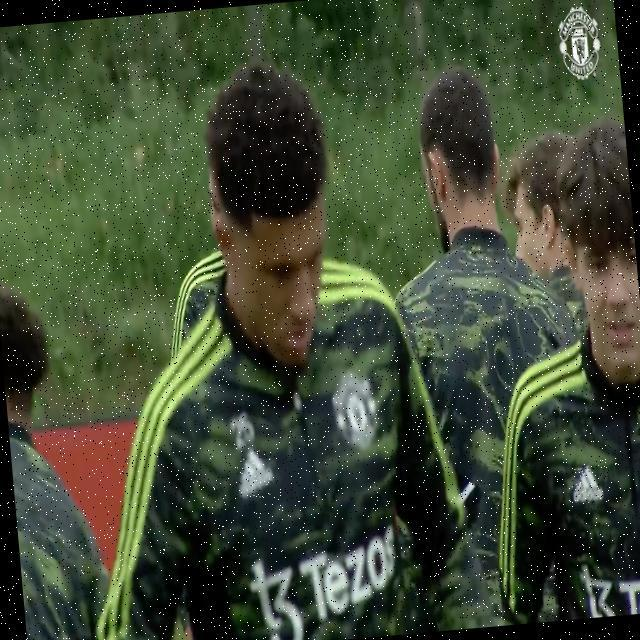Adidas: (235, 448, 274, 499), (570, 464, 603, 504)
